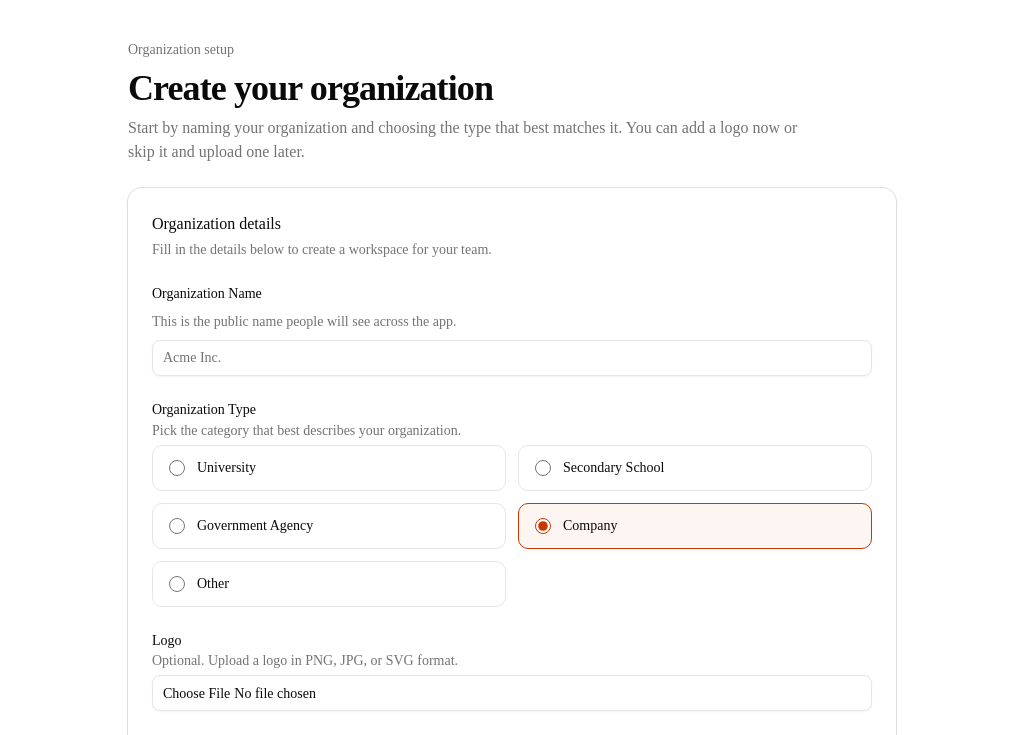
Test: OrgSetup (Organization Creation) › creates the organization and navigates to the dashboard
Step 1. Type "Acme Inc" into the field labelled "Organization Name" → [512, 358], box x1=152 y1=340 x2=872 y2=376
(page scrolled)
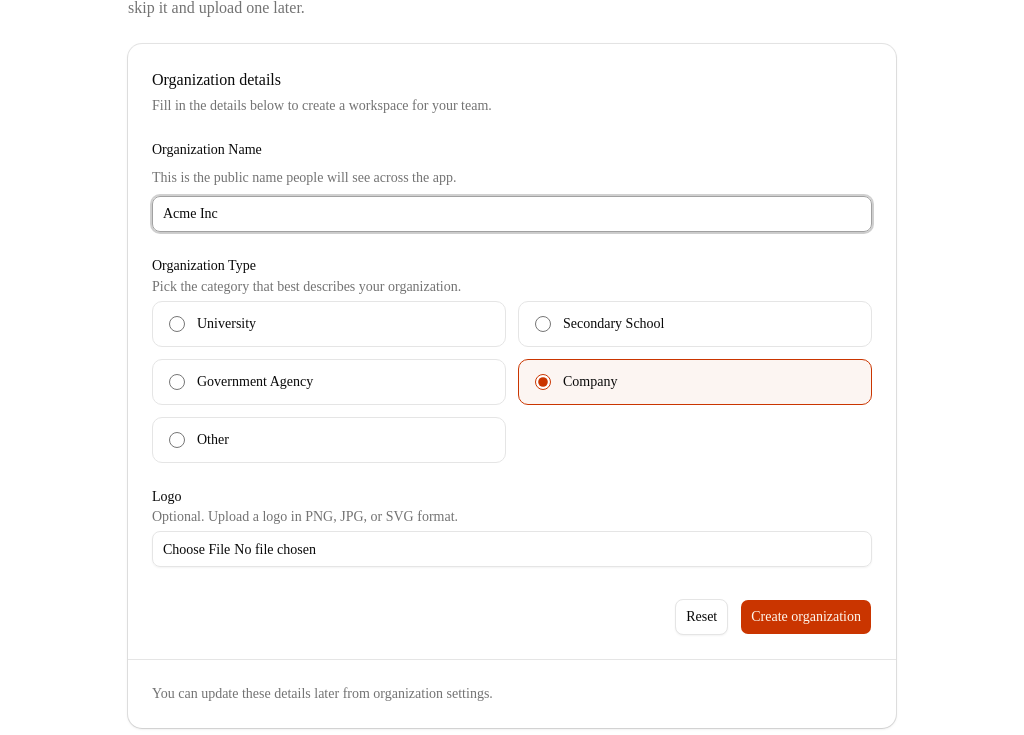
Step 2. Click the button "Create organization" → [806, 617], box x1=740 y1=599 x2=872 y2=635
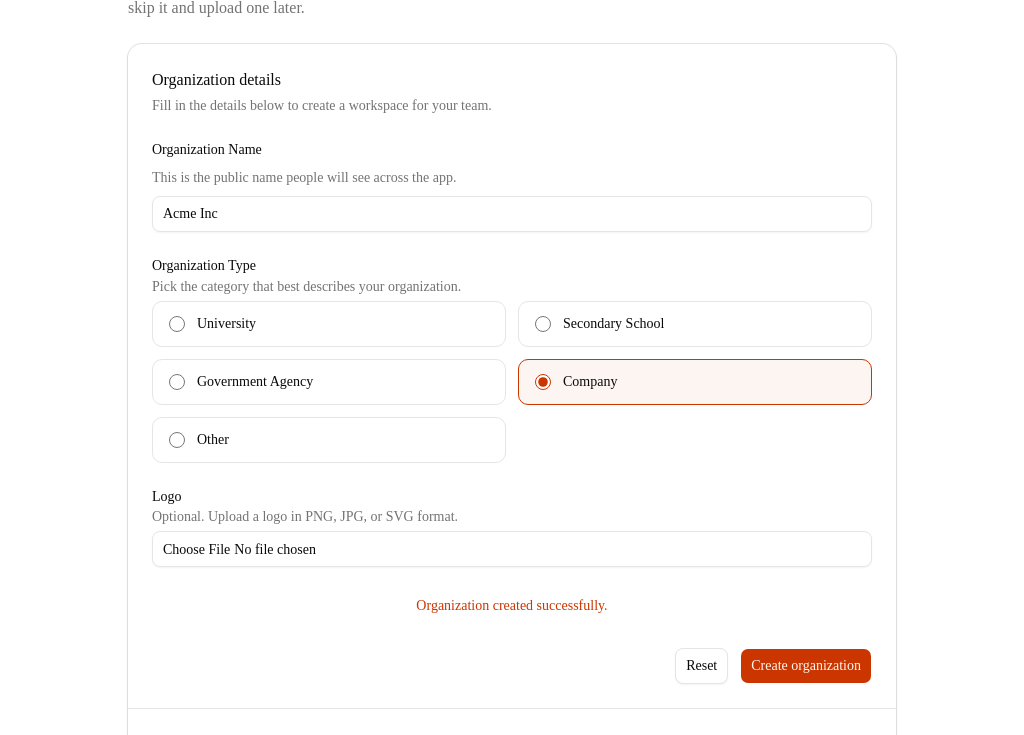
Expected: the text "Organization created successfully." is shown, x1=416 y1=598 x2=608 y2=613
